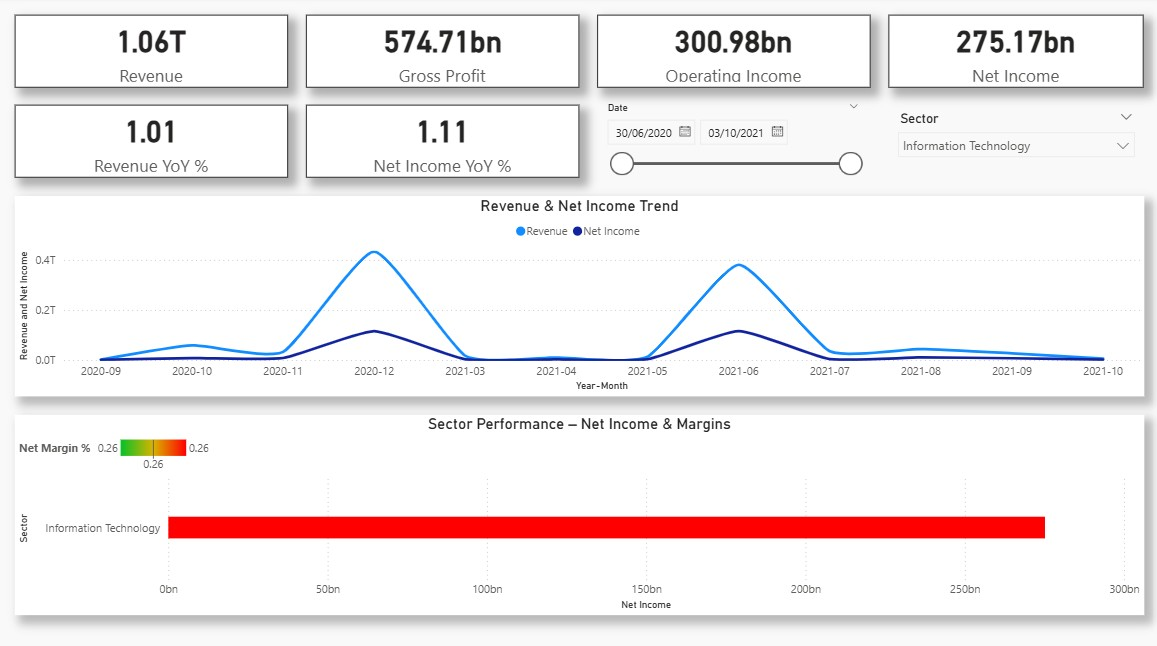

This screenshot's page, from the dashboard's own definition file:
{"tool":"powerbi","page":{"name":"Executive Overview","canvas":[1280,720],"ordinal":0},"visuals":[{"type":"card","fields":{"Values":["MeasureTable.Revenue"]},"box":[20,20,300,80],"z":0},{"type":"card","fields":{"Values":["MeasureTable.Gross Profit"]},"box":[340,20.6,300,80],"z":1000},{"type":"card","fields":{"Values":["MeasureTable.Operating Income"]},"box":[660,20.6,300,80],"z":2000},{"type":"card","fields":{"Values":["MeasureTable.Net Income"]},"box":[980,20.6,280,80],"z":3000},{"type":"card","fields":{"Values":["MeasureTable.Revenue YoY %"]},"box":[20,120,300,80],"z":4000},{"type":"card","fields":{"Values":["MeasureTable.Net Income YoY %"]},"box":[340,120,300,80],"z":5000},{"type":"lineChart","title":"Revenue & Net Income Trend","fields":{"Y":["MeasureTable.Revenue","MeasureTable.Net Income"],"Category":["DimDate.Year-Month"]},"box":[20,220,1240,220],"z":6000},{"type":"clusteredBarChart","title":"Sector Performance – Net Income & Margins","fields":{"Category":["DimCompany.Company Drilldown.Sector","DimCompany.Company Drilldown.Company"],"Y":["MeasureTable.Net Income"]},"box":[20,460,1240,220],"z":7000},{"type":"slicer","fields":{"Values":["FactFinancials.Date"]},"box":[658.7,111.1,300.5,98.8],"z":8000},{"type":"slicer","fields":{"Values":["DimCompany.Sector"]},"box":[980,120.8,280,81],"z":9000}]}

Visuals, with their boxes in screenshot pixels (x1, y1, x2, y2), scaled from the page's 1280x720 canvas onto the 1157x646 screenshot:
card - MeasureTable.Revenue: locate(18, 18, 289, 90)
card - MeasureTable.Gross Profit: locate(307, 18, 578, 90)
card - MeasureTable.Operating Income: locate(597, 18, 868, 90)
card - MeasureTable.Net Income: locate(886, 18, 1139, 90)
card - MeasureTable.Revenue YoY %: locate(18, 108, 289, 179)
card - MeasureTable.Net Income YoY %: locate(307, 108, 578, 179)
"Revenue & Net Income Trend" lineChart: locate(18, 197, 1139, 395)
"Sector Performance – Net Income & Margins" clusteredBarChart: locate(18, 413, 1139, 610)
slicer - FactFinancials.Date: locate(595, 100, 867, 188)
slicer - DimCompany.Sector: locate(886, 108, 1139, 181)
